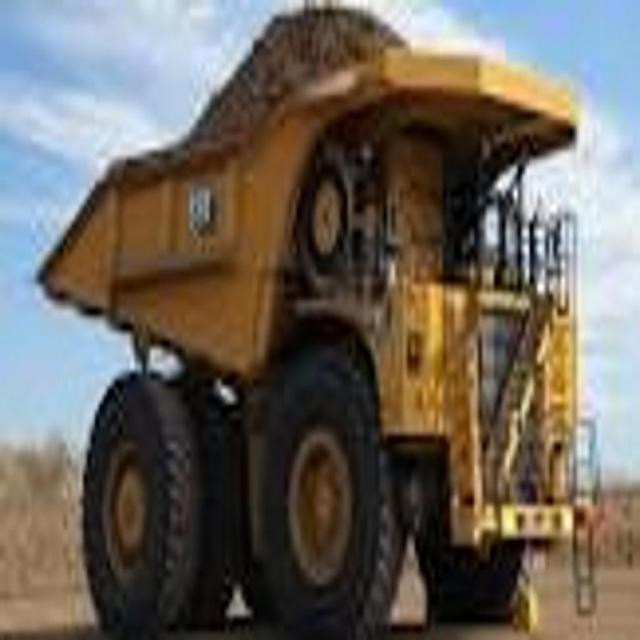dump_truck: (33, 0, 600, 640)
